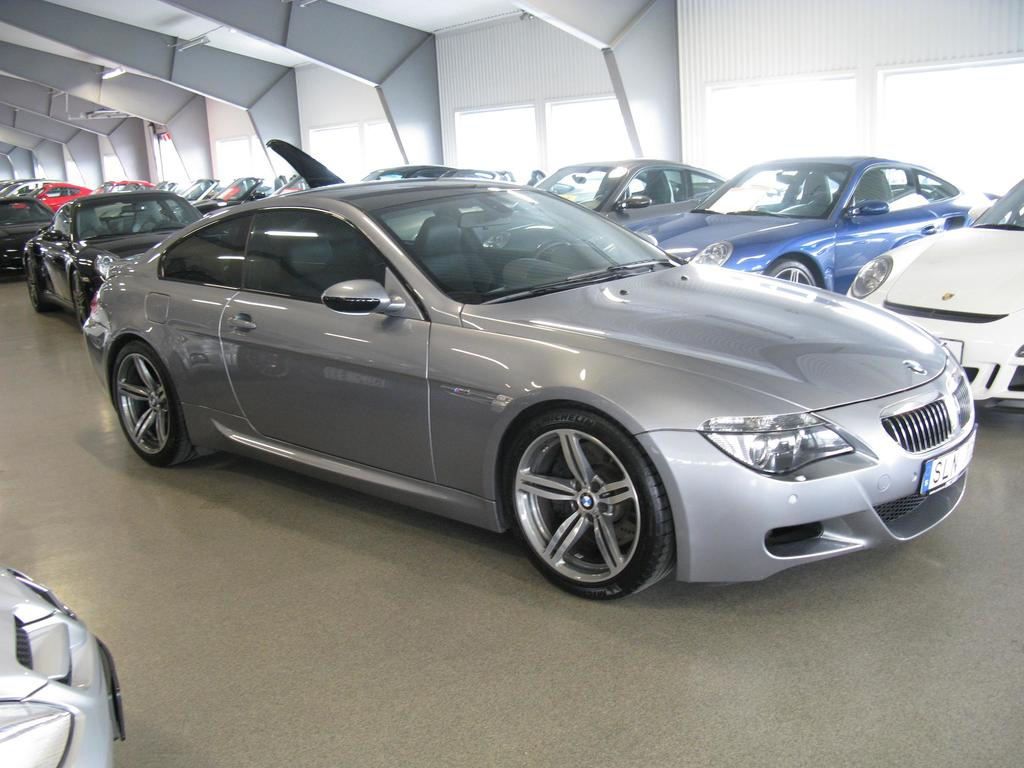mobil: (100, 174, 989, 610)
